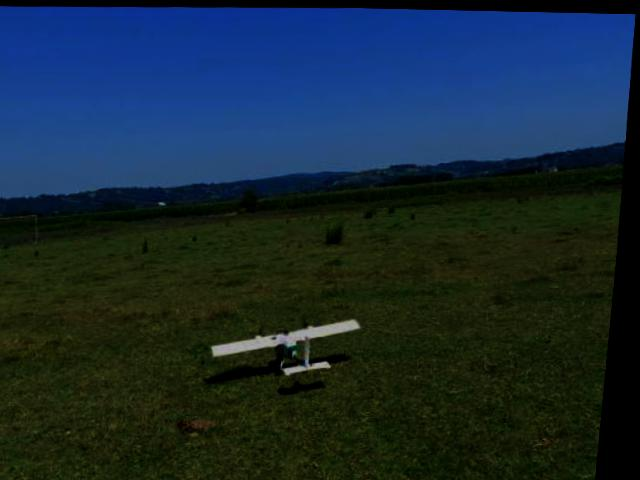uav: (213, 308, 369, 382)
